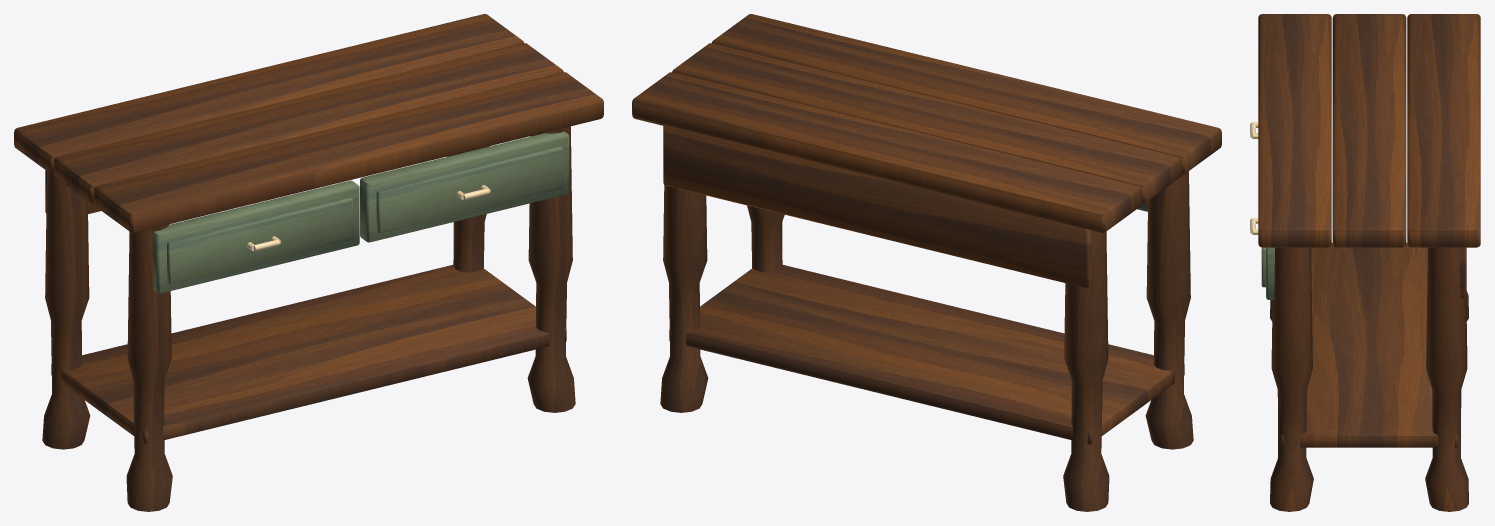
The model's file is CM_AF01_SideWorktable.fbx.
3 renders of one model, left to right at view 1: azimuth 30°, elevation 25°; view 2: azimuth 150°, elevation 25°; view 3: azimuth 270°, elevation 25°, orthographic. The views are drawn at different scales.
Visible parts, largest first — view 1: CM_AF01_SideWorktable; view 2: CM_AF01_SideWorktable; view 3: CM_AF01_SideWorktable.
Boxes of the visible parts, x1=… form: CM_AF01_SideWorktable: x1=14, y1=14, x2=603, y2=511; CM_AF01_SideWorktable: x1=632, y1=14, x2=1221, y2=511; CM_AF01_SideWorktable: x1=1250, y1=14, x2=1480, y2=511.
Bounding box in the file's own units: 1.56 × 0.9725 × 0.7015.
